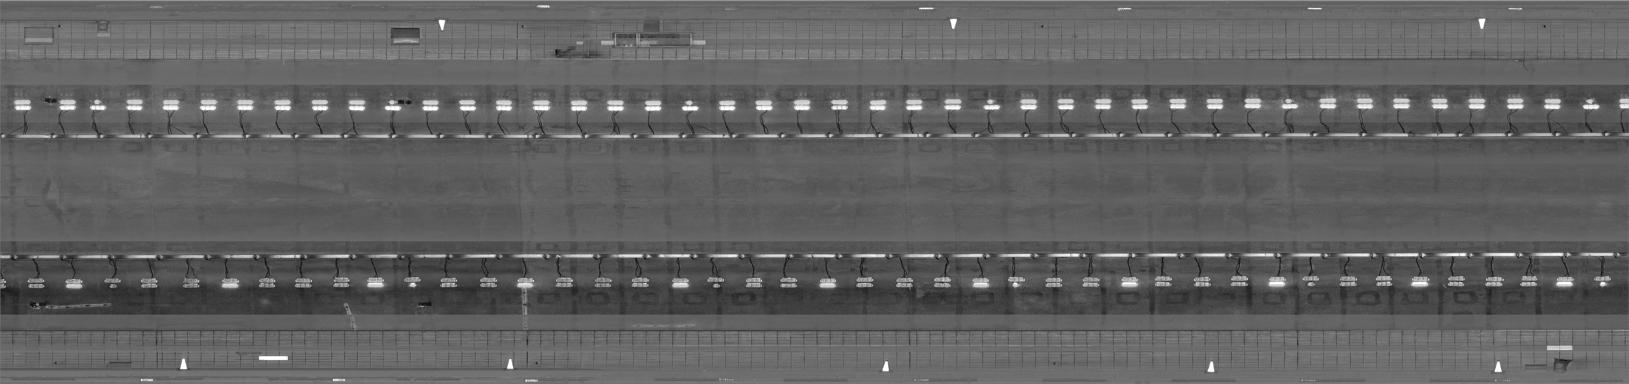light: (638, 95, 666, 116), (1300, 270, 1323, 295), (789, 94, 816, 115), (676, 95, 704, 115), (10, 93, 36, 114), (1078, 272, 1104, 293), (865, 95, 891, 116), (1089, 94, 1117, 113), (903, 95, 928, 116), (826, 94, 851, 115), (177, 273, 203, 293), (1551, 272, 1578, 291), (1117, 271, 1141, 292), (1428, 93, 1452, 114), (1054, 94, 1078, 115), (1016, 94, 1040, 115), (1444, 271, 1469, 291), (1388, 93, 1413, 113), (940, 95, 965, 115), (751, 95, 776, 115), (968, 273, 995, 291), (418, 97, 442, 116), (715, 95, 739, 115), (1265, 273, 1290, 292), (1370, 272, 1396, 290), (568, 95, 590, 116), (1150, 273, 1177, 290), (1189, 273, 1216, 290), (1042, 273, 1066, 292), (1228, 272, 1252, 291), (1409, 273, 1433, 292), (1516, 273, 1541, 291), (291, 273, 317, 290), (1483, 273, 1508, 290), (493, 97, 515, 116), (1129, 94, 1151, 114), (455, 95, 478, 114), (1465, 95, 1488, 114), (122, 97, 145, 114), (345, 97, 369, 114), (529, 97, 553, 114), (1503, 94, 1527, 112), (1240, 94, 1264, 112), (1203, 95, 1227, 113), (627, 273, 652, 290), (1591, 273, 1615, 290), (981, 95, 1002, 115), (605, 97, 626, 115), (738, 275, 766, 290), (933, 273, 955, 292), (1353, 95, 1376, 113), (308, 98, 331, 114), (591, 274, 615, 291), (817, 276, 840, 293), (1005, 273, 1029, 290), (1578, 95, 1602, 112), (1315, 95, 1339, 112), (1276, 95, 1300, 112), (196, 97, 221, 112), (512, 274, 537, 290), (552, 274, 577, 290), (401, 274, 423, 292), (157, 97, 180, 113), (704, 274, 727, 291), (1337, 273, 1360, 290), (669, 275, 693, 291), (777, 275, 801, 291), (853, 275, 877, 291), (1539, 95, 1563, 111), (436, 275, 461, 290), (101, 277, 124, 293), (217, 277, 241, 292), (138, 276, 160, 292), (365, 274, 386, 290), (56, 97, 78, 112), (271, 98, 293, 113), (1167, 97, 1189, 112), (63, 276, 86, 291), (257, 275, 279, 290), (236, 97, 255, 114), (893, 275, 915, 290), (24, 277, 49, 290), (87, 97, 107, 112), (478, 276, 500, 290), (330, 275, 350, 290), (382, 99, 402, 113), (1617, 95, 1629, 114), (1, 273, 10, 293)
